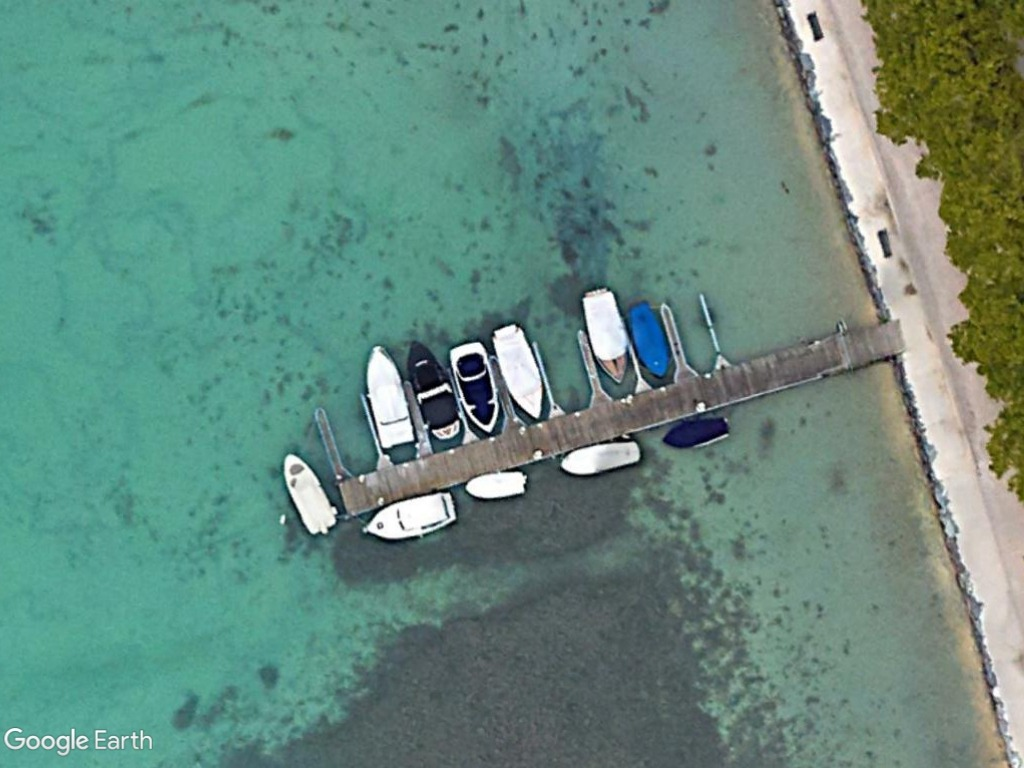boat: (443, 336, 504, 436), (407, 335, 461, 442), (489, 322, 547, 421), (280, 446, 340, 540), (366, 340, 416, 452), (578, 285, 632, 384), (358, 488, 456, 542), (626, 296, 672, 384), (555, 437, 644, 480), (659, 412, 733, 453), (462, 466, 528, 502)
